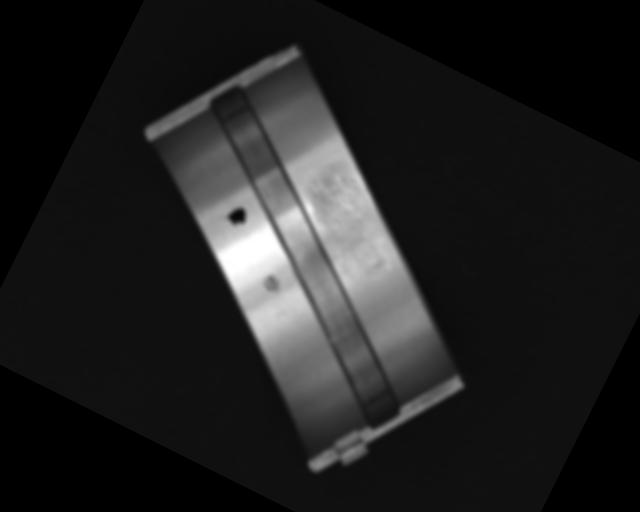blot: (220, 201, 251, 232)
bruise: (257, 270, 284, 297)
gap: (119, 81, 496, 434)
scratch: (281, 165, 412, 290)
